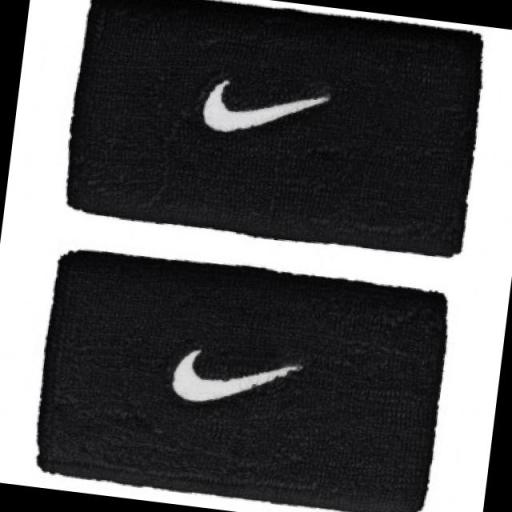Nike: (164, 336, 306, 416)
